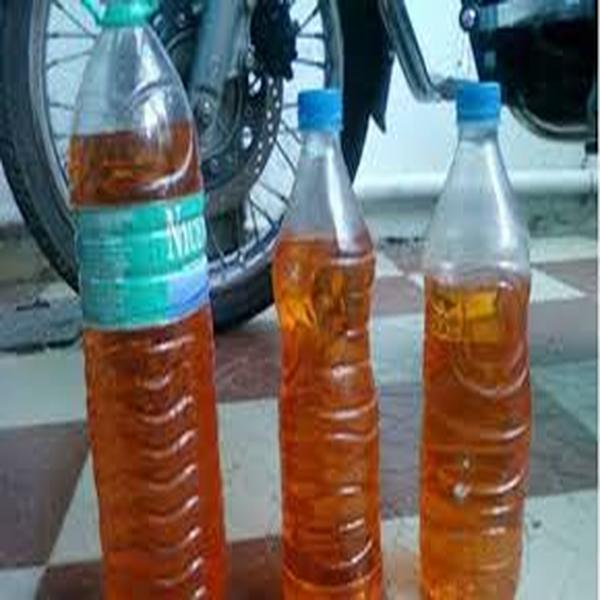tutuma: (58, 5, 235, 595), (412, 66, 550, 597), (262, 76, 388, 600)
